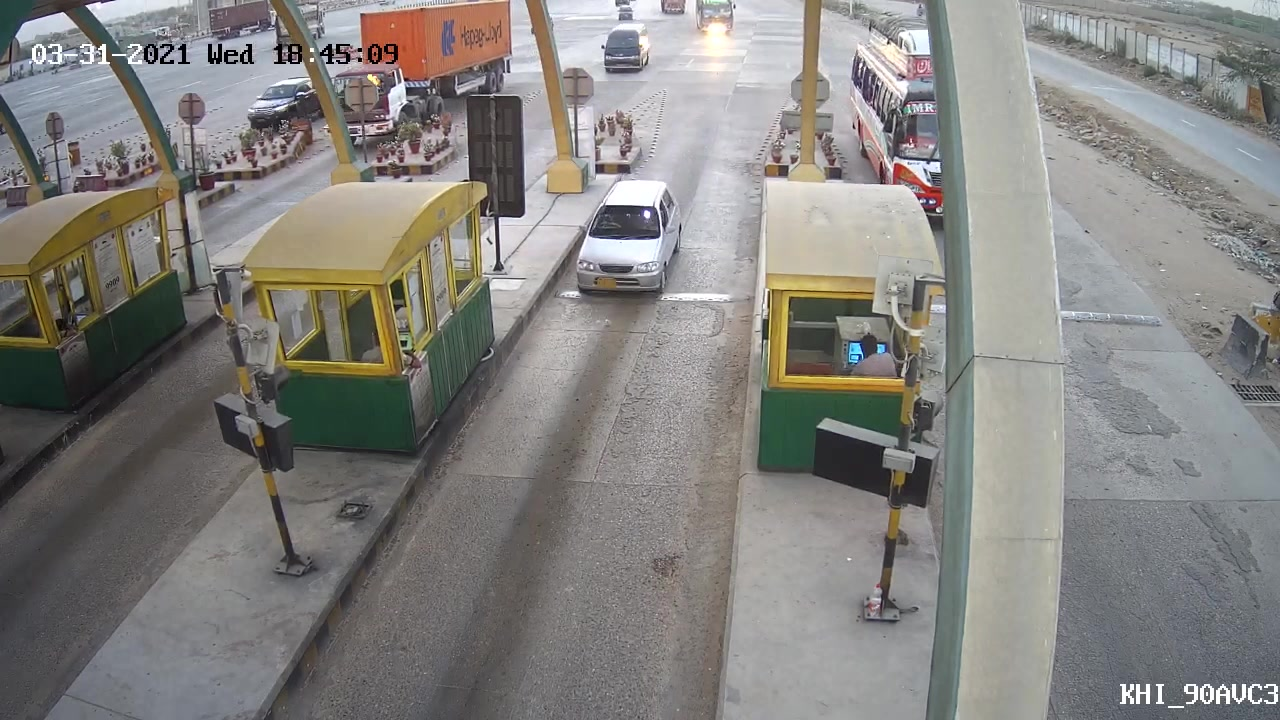F1: (559, 169, 690, 299)
